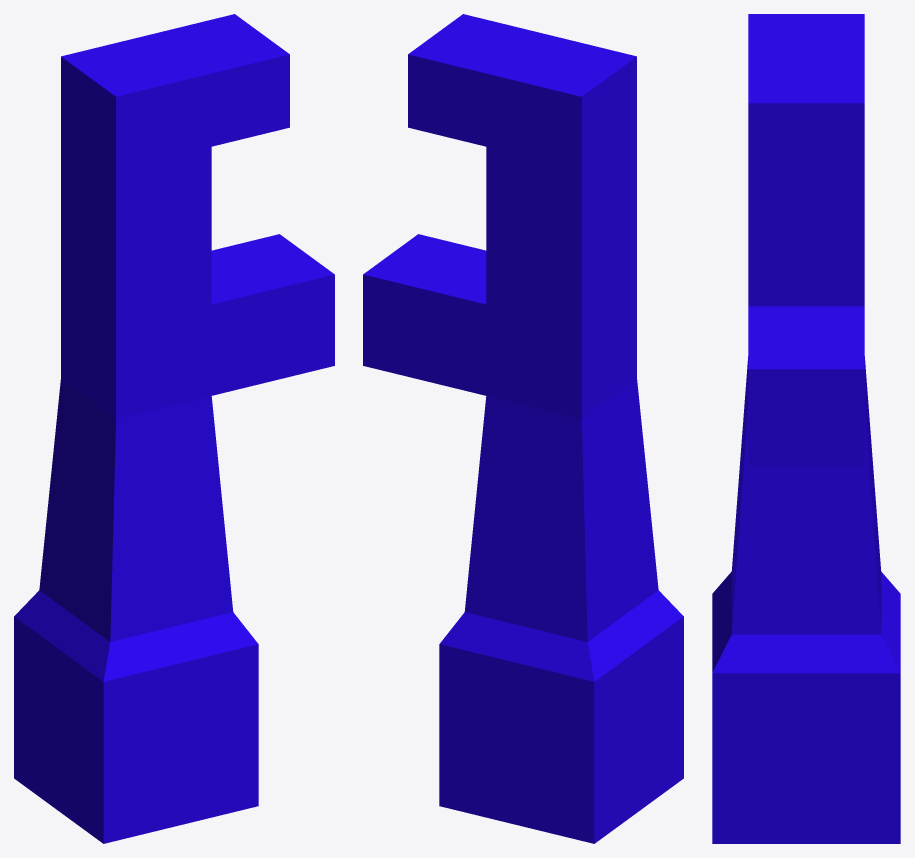
The model's file is keyblue.glb.
The picture shows the model from 3 angles, left to right: view 1: azimuth 30°, elevation 25°; view 2: azimuth 150°, elevation 25°; view 3: azimuth 270°, elevation 25°; orthographic projection. The views are drawn at different scales.
Visible parts, largest first — view 1: Cube; view 2: Cube; view 3: Cube.
Part boxes in pixels (x1,y1,x2,y2): Cube: [14, 14, 334, 843]; Cube: [363, 14, 683, 843]; Cube: [712, 14, 900, 843].
Bounding box in the file's own units: 1.6 × 4.49 × 1.
1 material, 1 textured.
